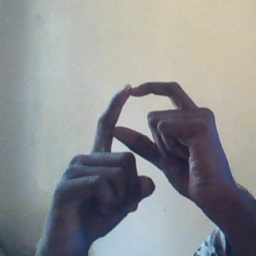D: (82, 78, 203, 193)
